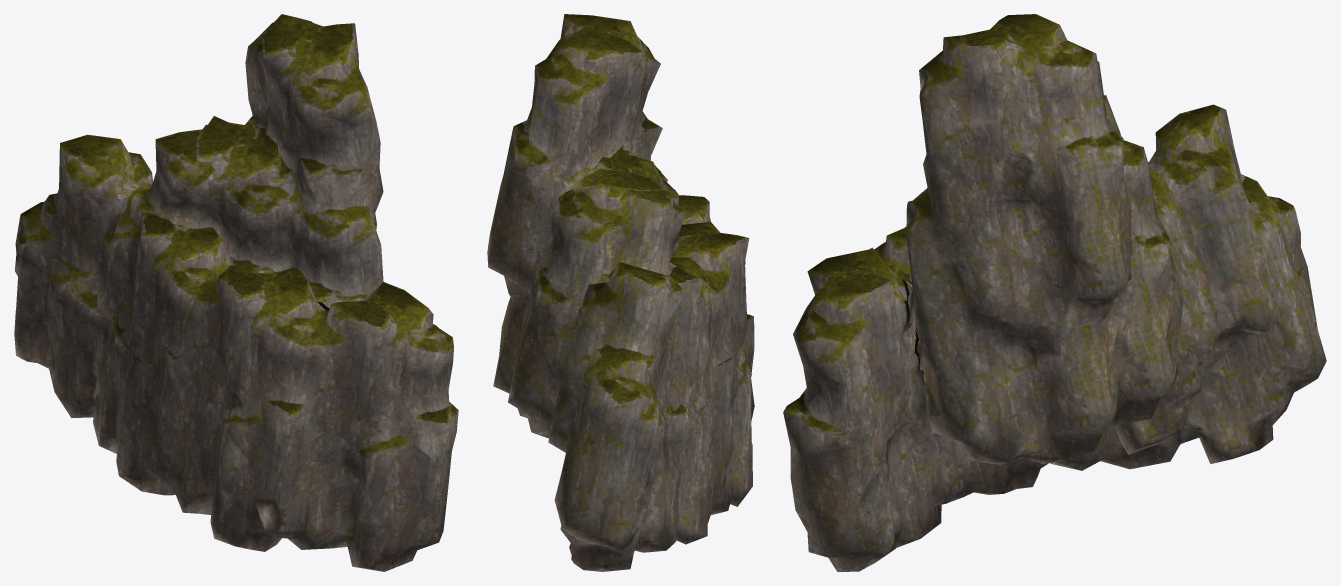
Rendered from SM_PROXY_SM_Cliff_01a.fbx.
3 renders of one model, left to right at view 1: azimuth 30°, elevation 25°; view 2: azimuth 150°, elevation 25°; view 3: azimuth 270°, elevation 25°, orthographic. The views are drawn at different scales.
Parts seen in each view (by area): view 1: SM_PROXY_SM_Cliff_01a_LOD0; view 2: SM_PROXY_SM_Cliff_01a_LOD0; view 3: SM_PROXY_SM_Cliff_01a_LOD0.
Part boxes in pixels (<box>): SM_PROXY_SM_Cliff_01a_LOD0: <box>14,14,458,571</box>; SM_PROXY_SM_Cliff_01a_LOD0: <box>487,14,754,571</box>; SM_PROXY_SM_Cliff_01a_LOD0: <box>783,14,1326,571</box>.
Size of the model in its own units: 33266 by 57341 by 62209.
